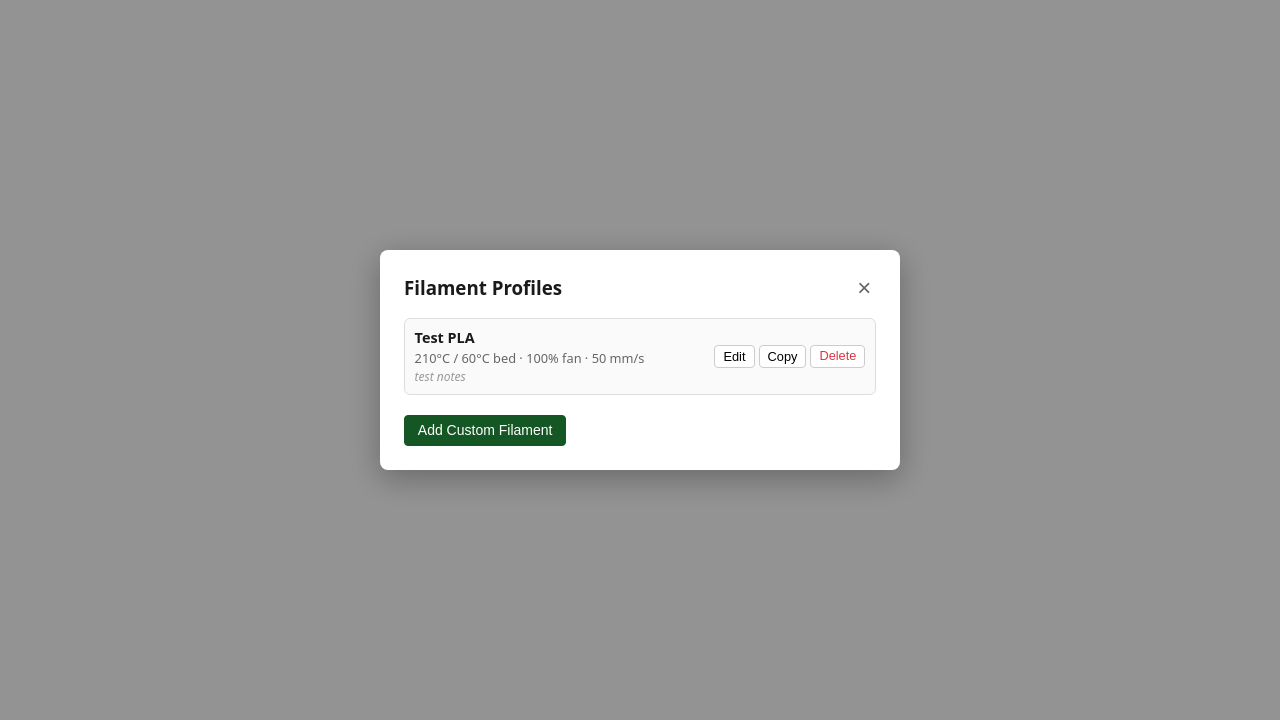
it: FilamentManager › edit form — advanced fields › PA value and adaptive PA shown when PA enabled
Click the button "Edit" at [735, 357], box [714,345,755,368]
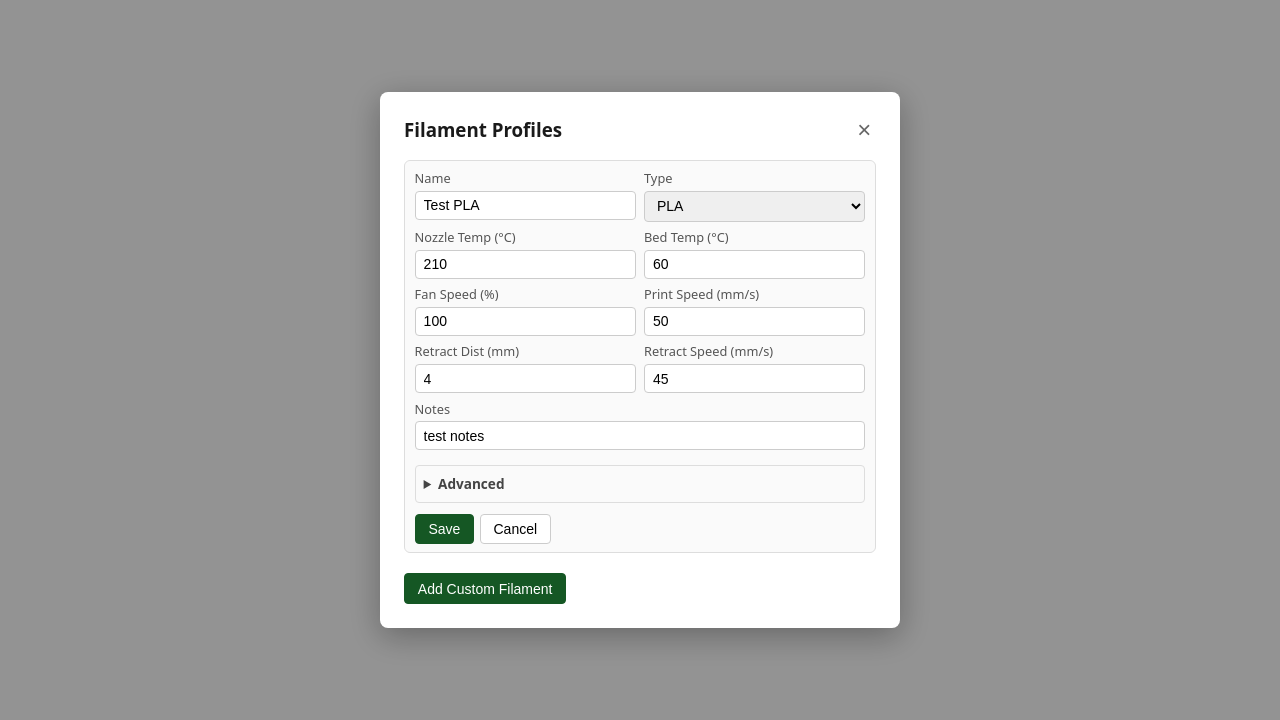
Click the heading "Advanced" at [471, 483], box [438,474,504,493]
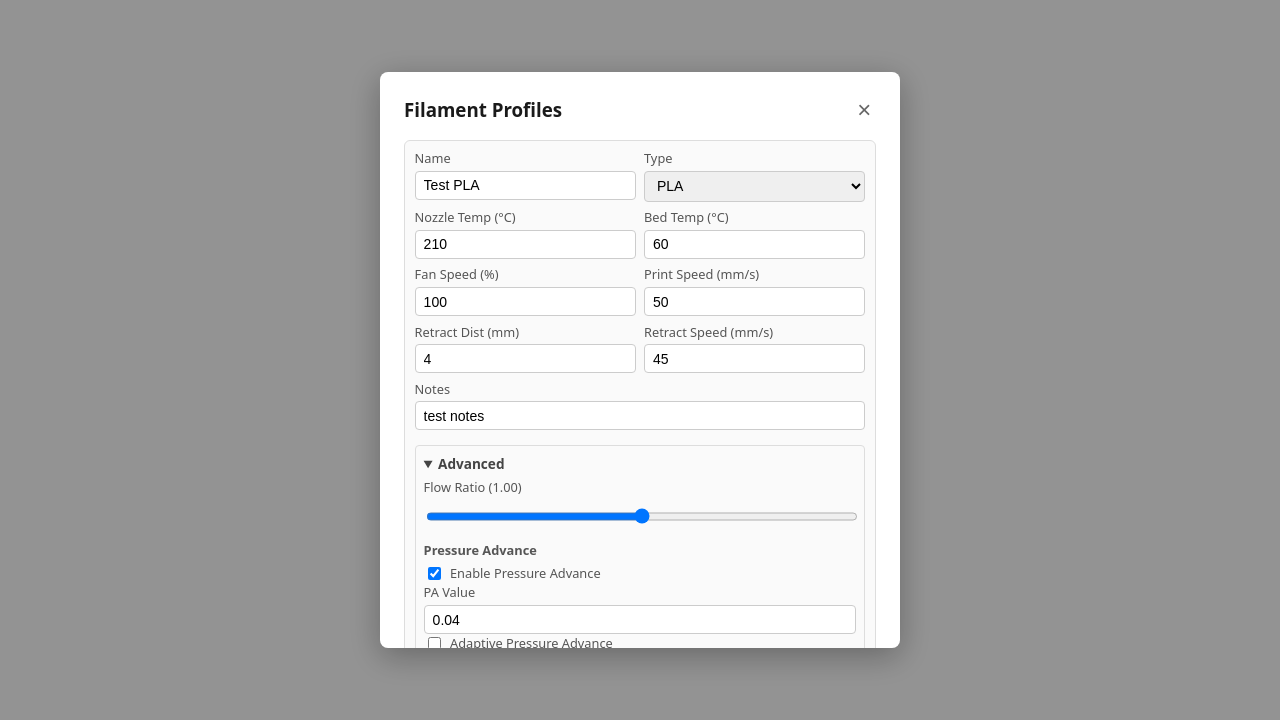
Expected: the text "PA Value" is shown, [424,583,475,601]
Expected: the text "Adaptive Pressure Advance" is shown, [450,634,613,648]
